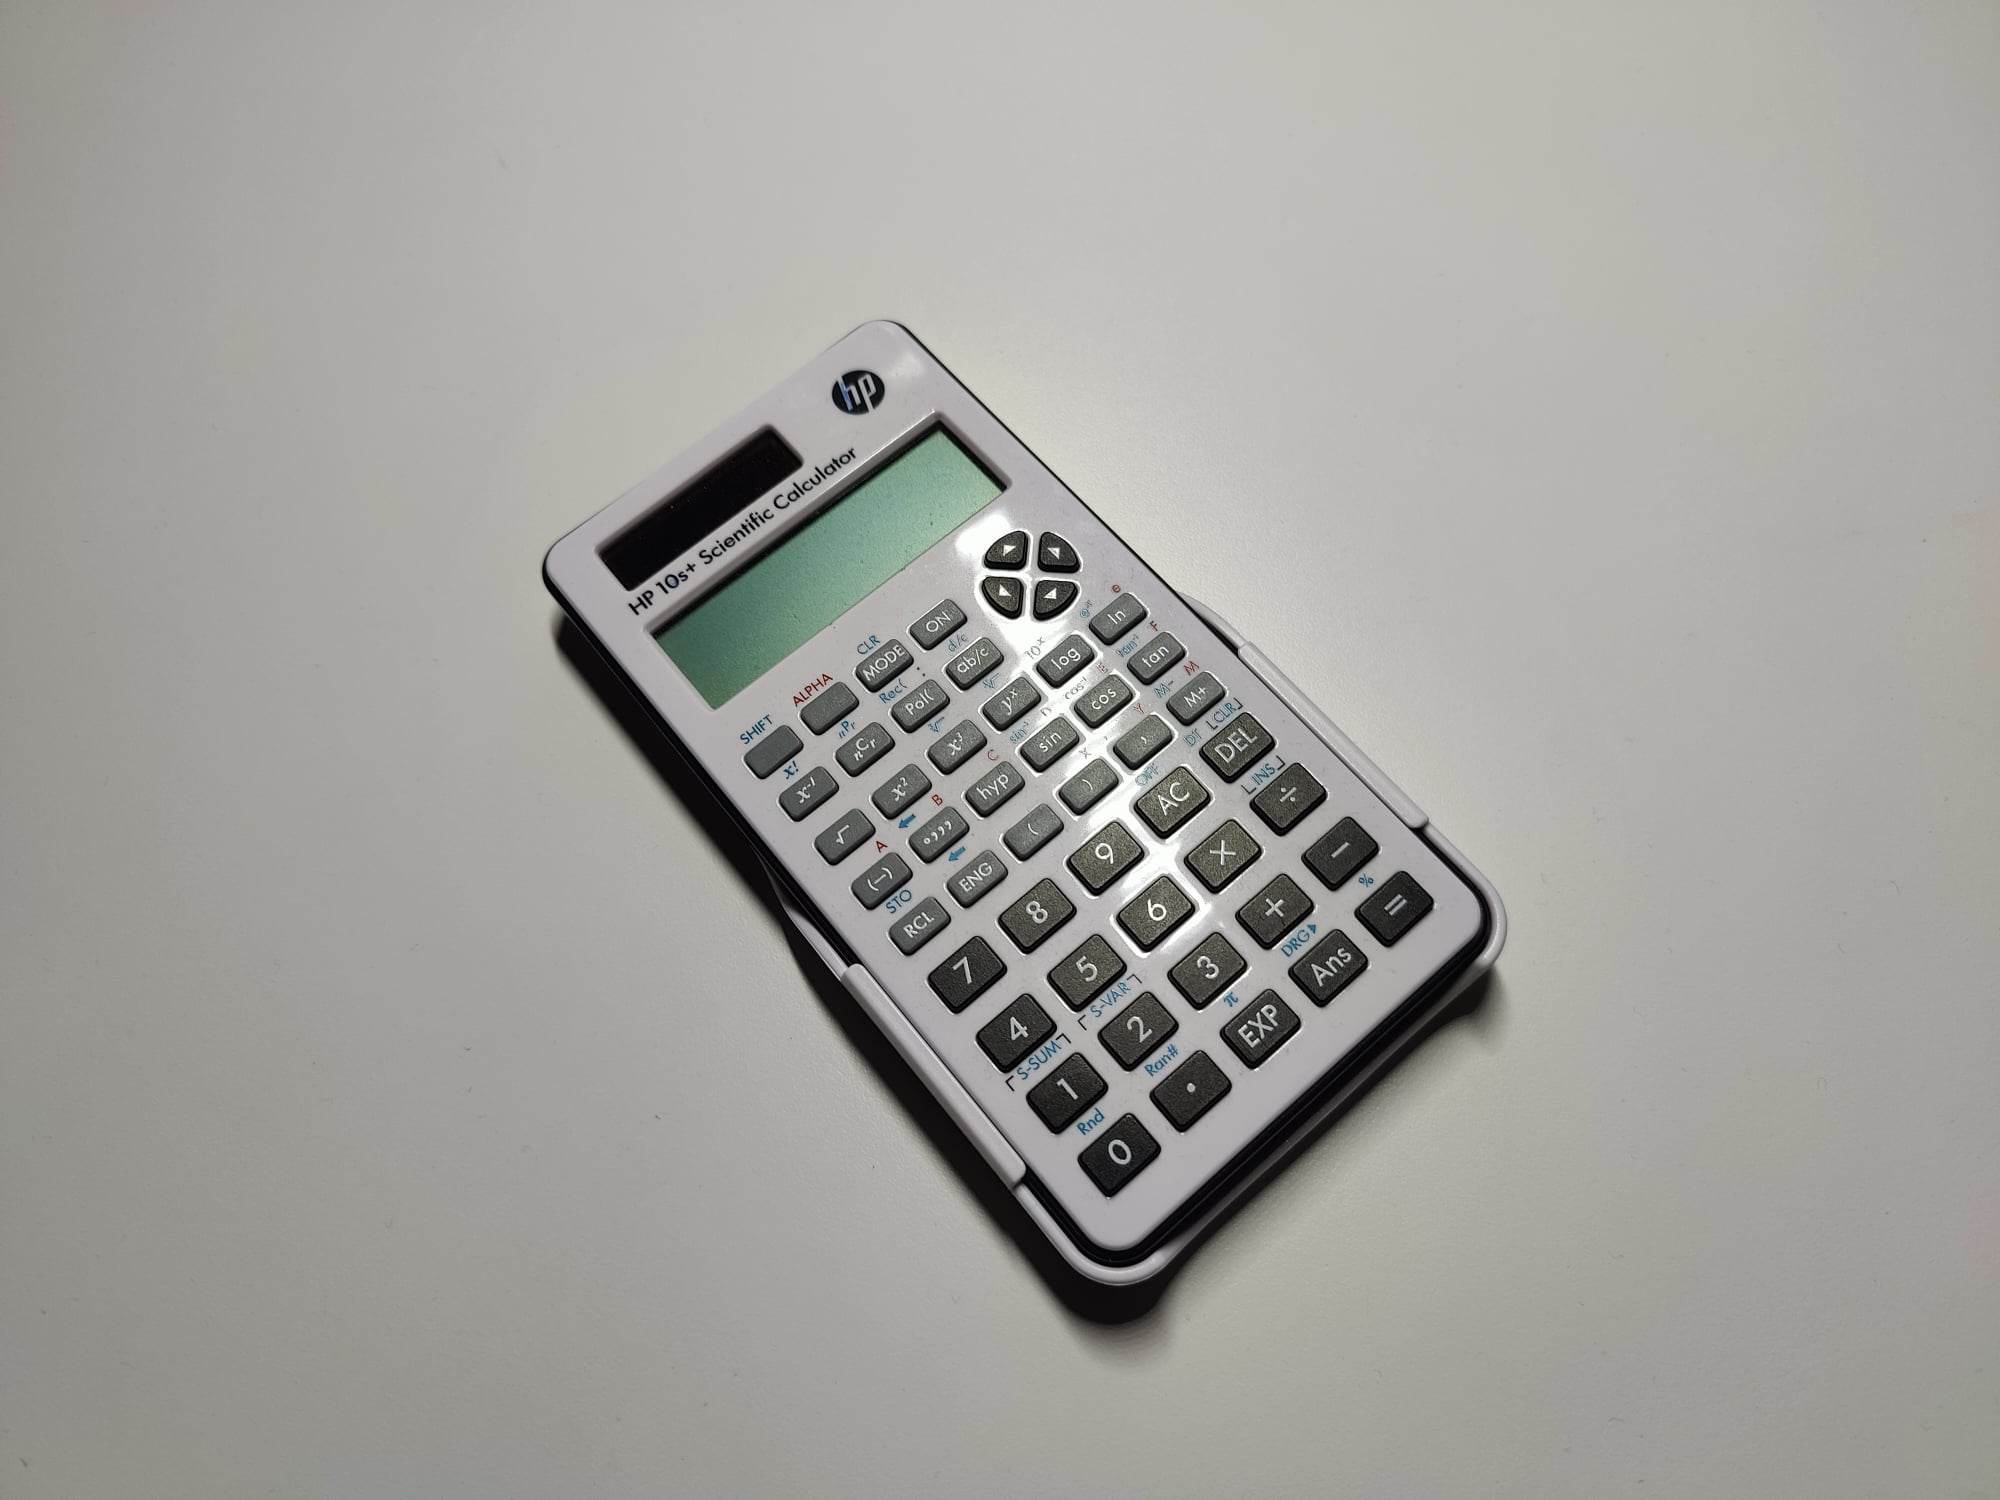Rekenmachine: (483, 280, 1554, 1376)
